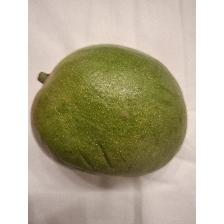Mango: (29, 42, 188, 180)
